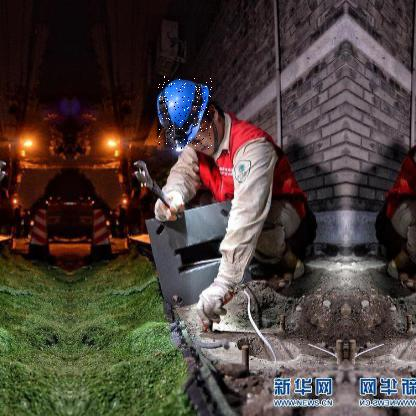safetyhelmet: (158, 76, 213, 150)
